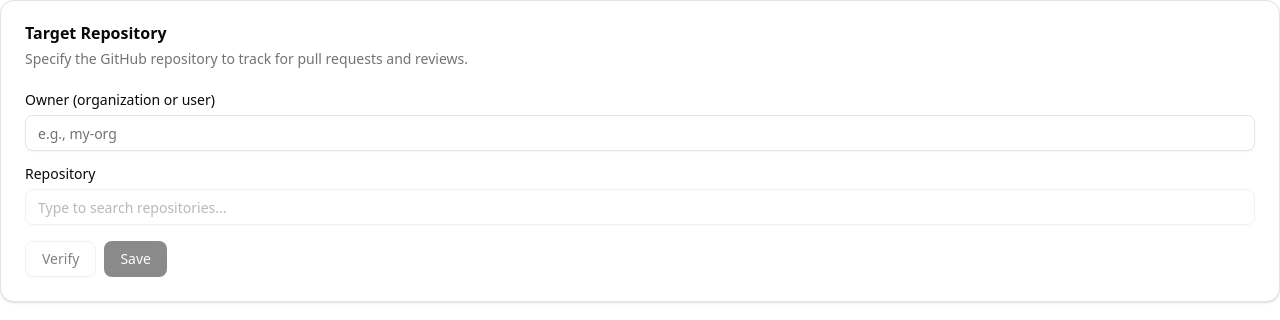
Test: GitHubRepoForm › enables repo input when owner has value
Type "my-org" into the field labelled "Owner (organization or user)".
click(640, 133); type("my-org")  # box x1=25 y1=115 x2=1255 y2=151
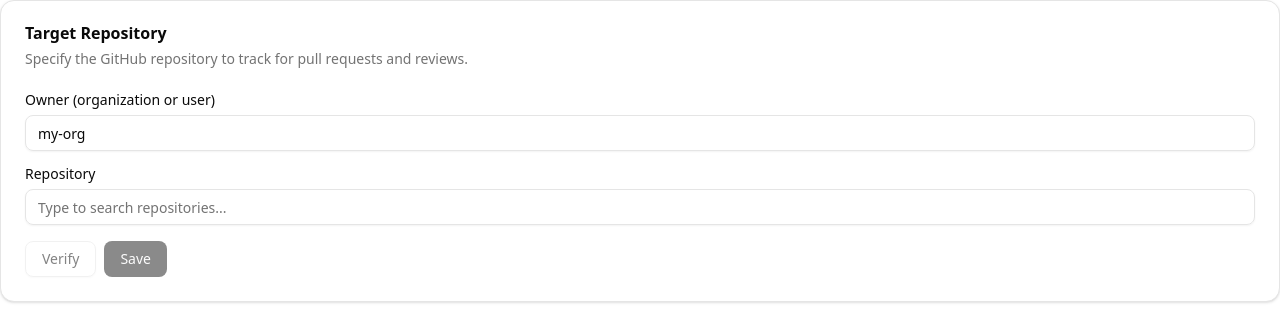
Check: the field labelled "Repository" is enabled, box x1=25 y1=189 x2=1255 y2=225
